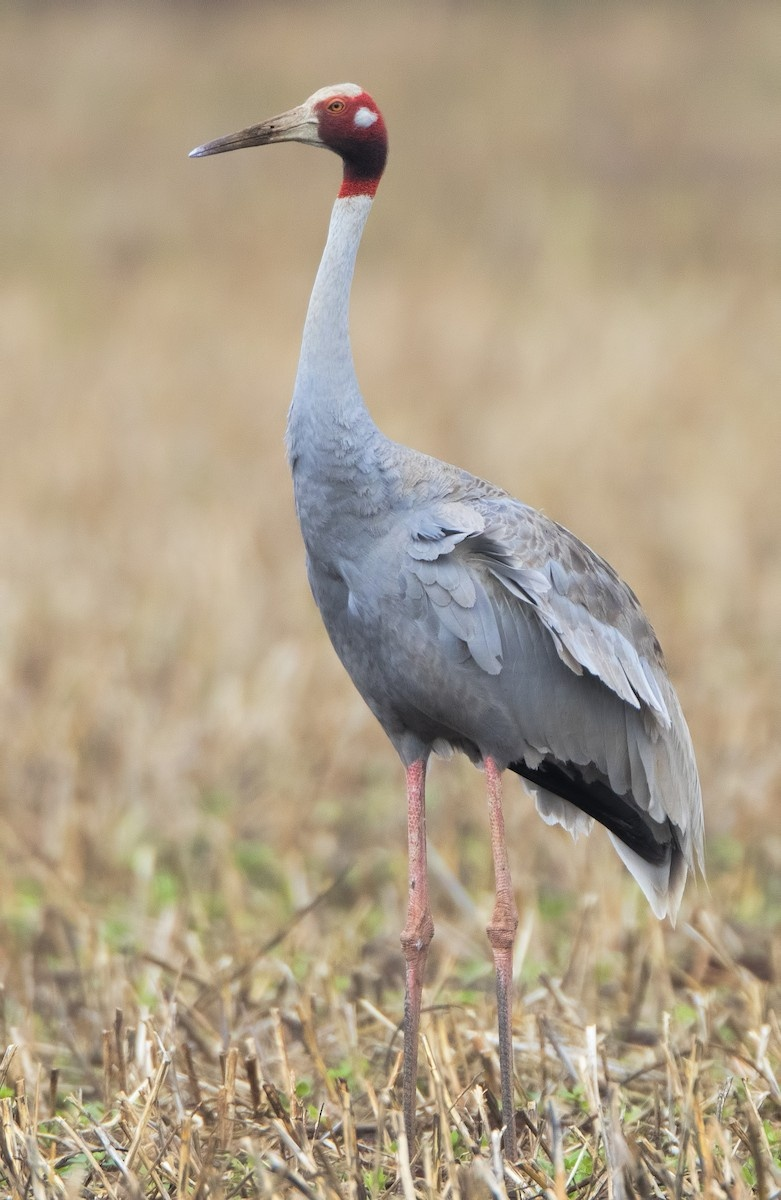crane: (179, 75, 710, 1157)
